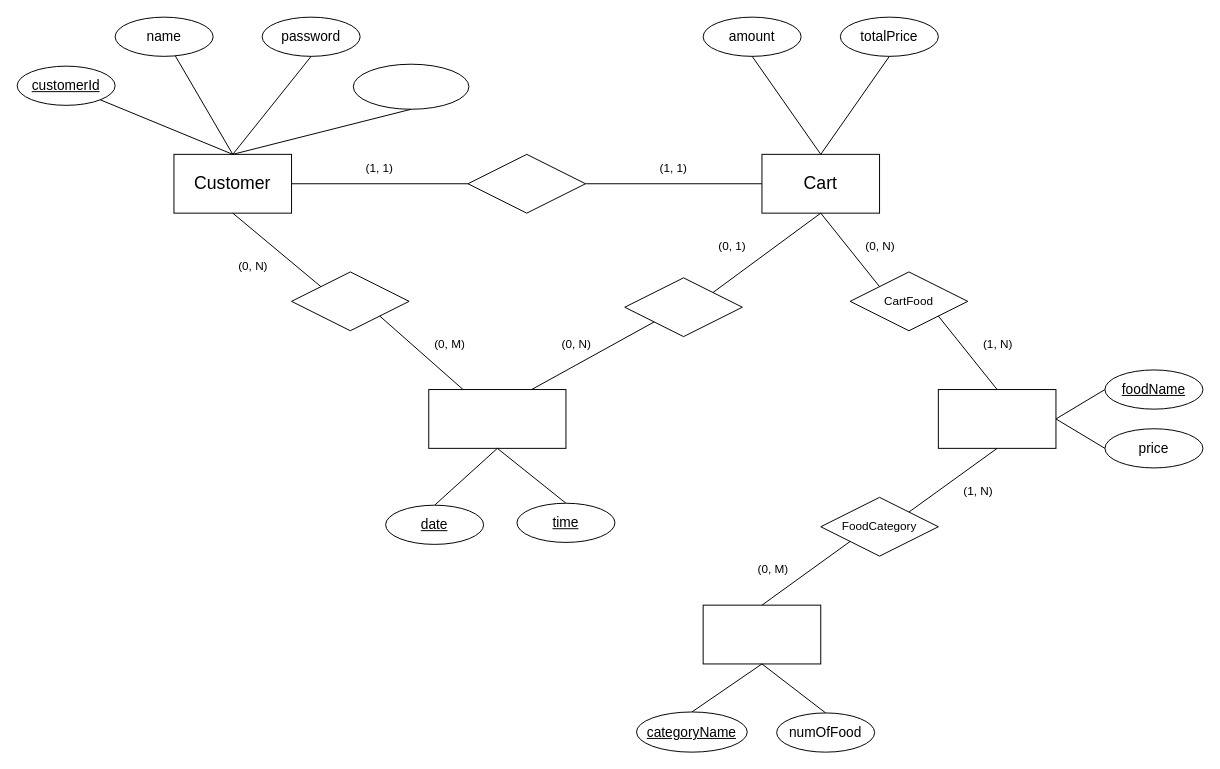
Image size: 1220x769. Some labels were removed from this diagram. Each missing label, with the box of its shape:
CartOrder: (624, 277, 742, 337)
Category: (702, 604, 821, 664)
CustCart: (467, 153, 586, 213)
CustOrder: (291, 271, 409, 331)
Food: (937, 389, 1056, 448)
phoneNumber: (352, 63, 469, 109)
PreviousOrder: (428, 389, 566, 448)
